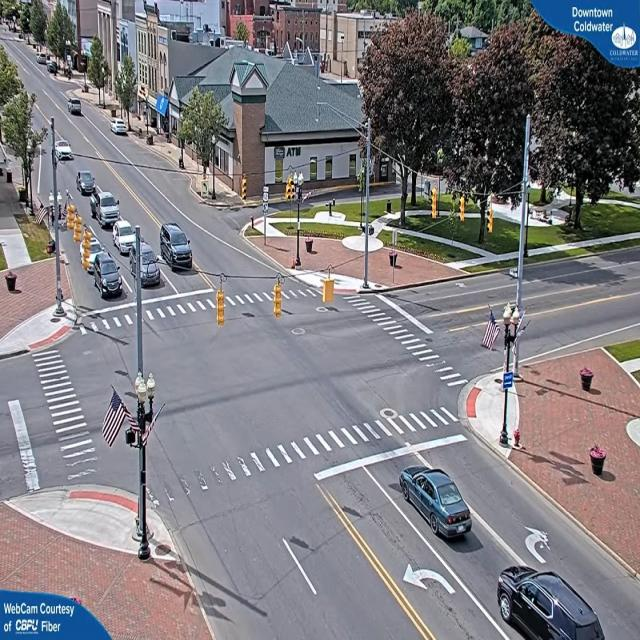car: (495, 567, 616, 639), (398, 467, 474, 541), (91, 248, 125, 298), (159, 225, 194, 271), (137, 246, 162, 287), (92, 192, 120, 228), (114, 226, 138, 256), (78, 172, 98, 196), (55, 137, 72, 160), (67, 98, 83, 115), (112, 120, 129, 136)
